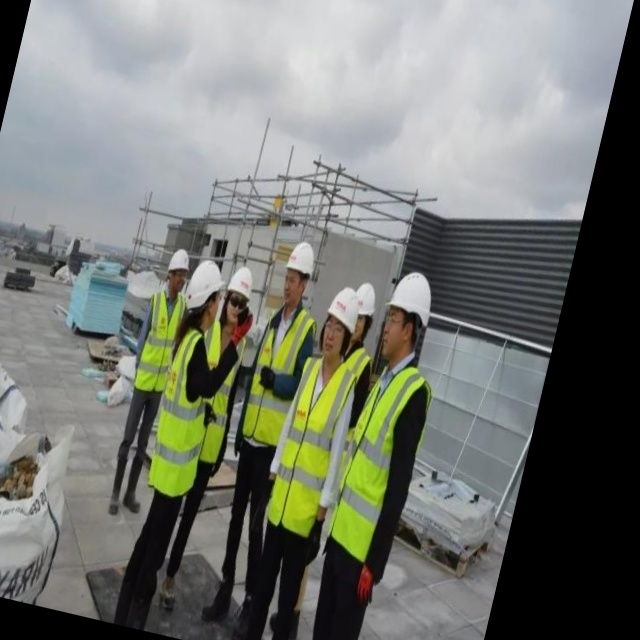Con_Casco: (377, 268, 440, 360), (279, 240, 318, 301), (162, 245, 194, 293)
Con_Chaleco: (325, 361, 435, 566), (262, 356, 354, 535), (142, 333, 227, 500), (236, 306, 316, 454), (131, 290, 186, 393)
